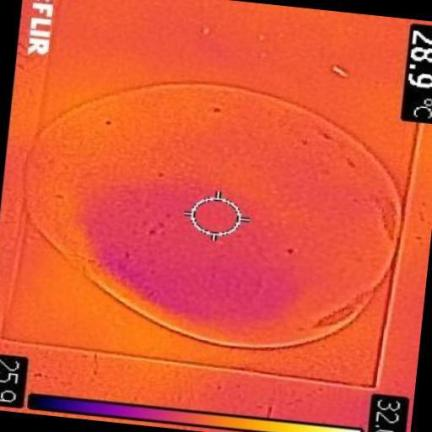mango: (28, 86, 399, 347)
